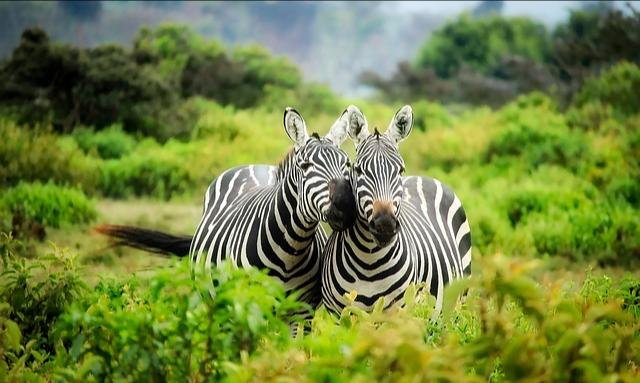Non_Gorille: (196, 87, 462, 329)
